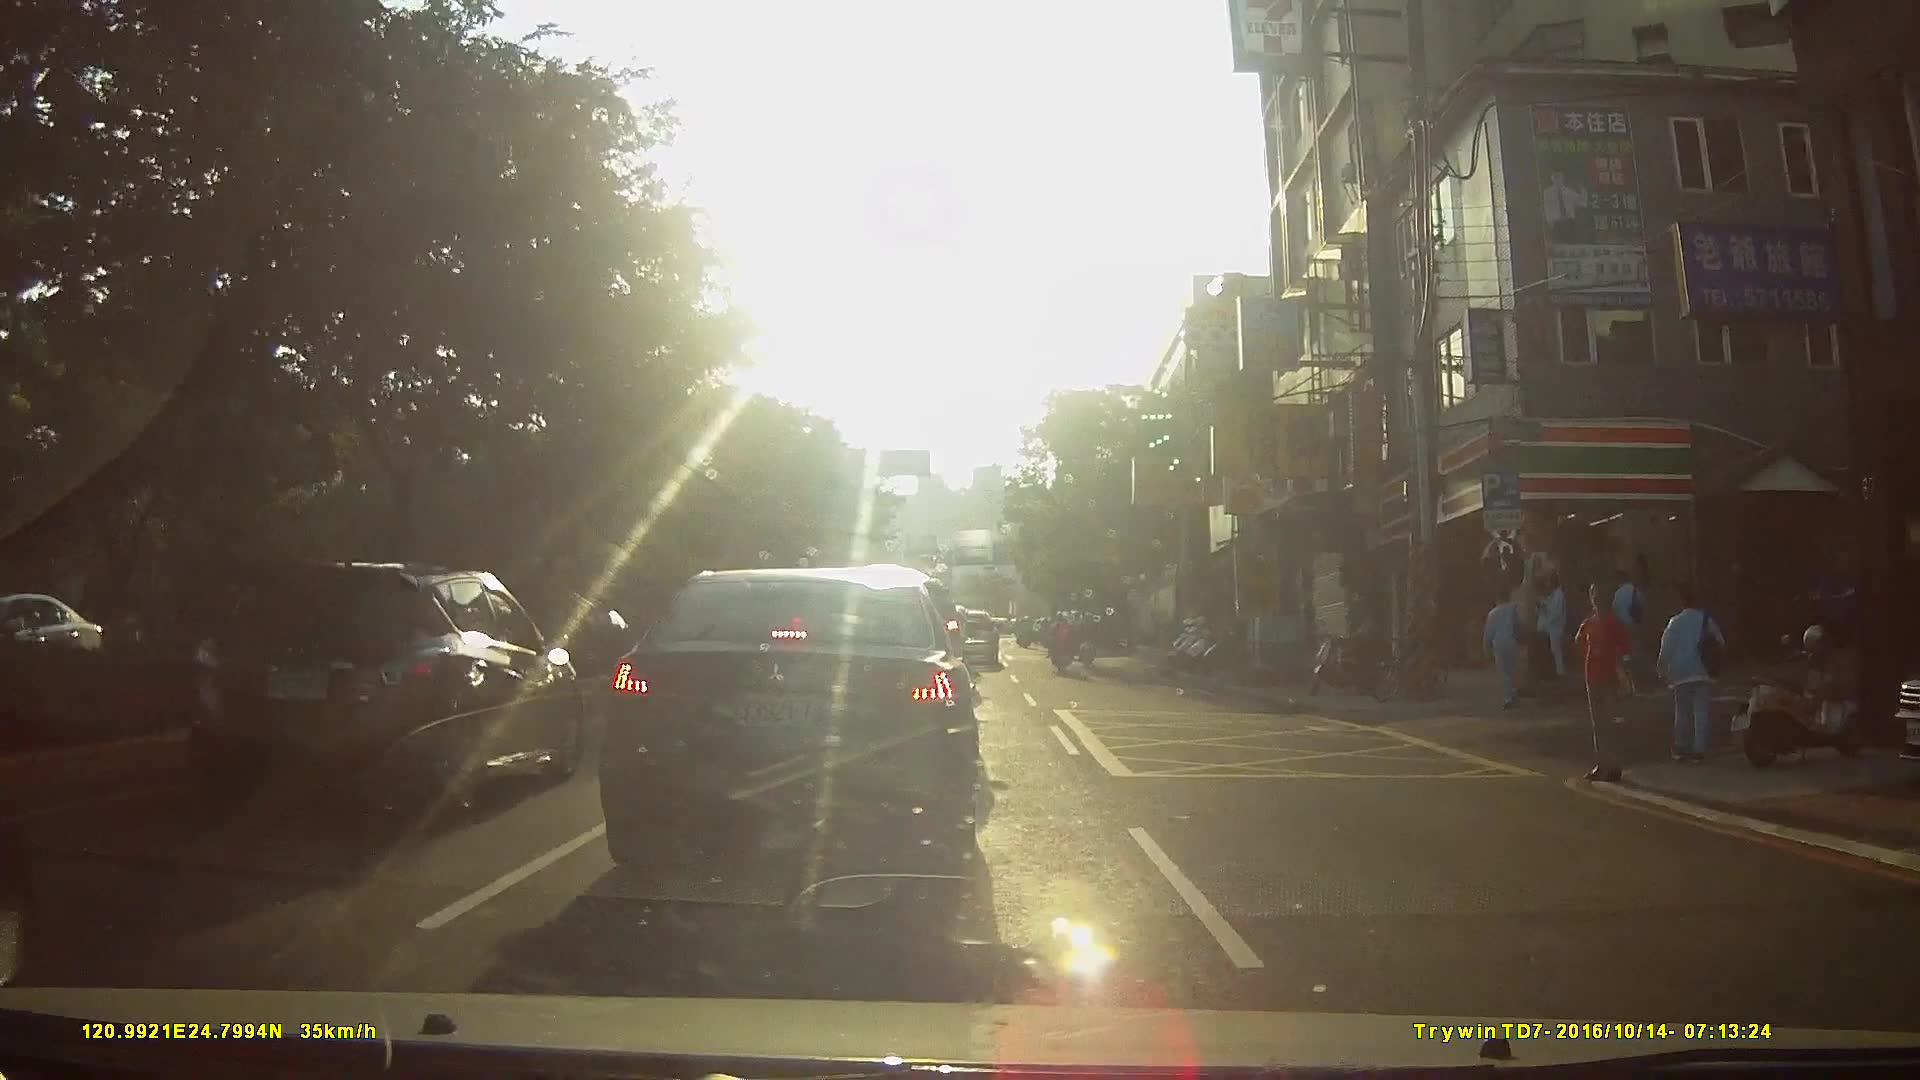pedestrian: (1649, 583, 1721, 760), (1571, 586, 1635, 782), (1483, 587, 1536, 711), (1533, 567, 1576, 684)
rider: (1048, 610, 1082, 678), (1064, 607, 1090, 660)
vehicle: (596, 566, 1001, 875), (181, 555, 590, 827), (1, 590, 115, 686)
